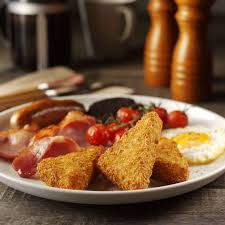fried_dumplings: (101, 119, 156, 191), (40, 145, 102, 189), (150, 138, 187, 185)
